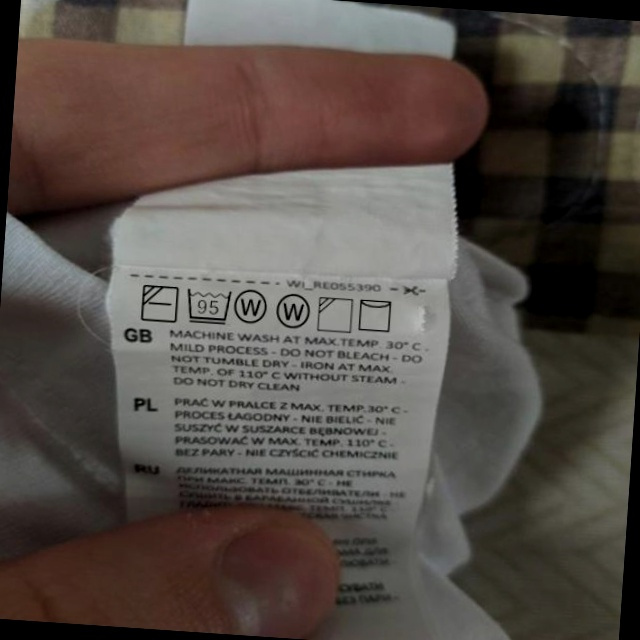95C: (183, 285, 234, 326)
dry_flat_in_shade: (138, 281, 180, 325)
line_dry: (355, 295, 397, 335)
shade_dry: (315, 294, 356, 335)
wet_clean: (274, 291, 313, 332), (234, 284, 271, 327)
